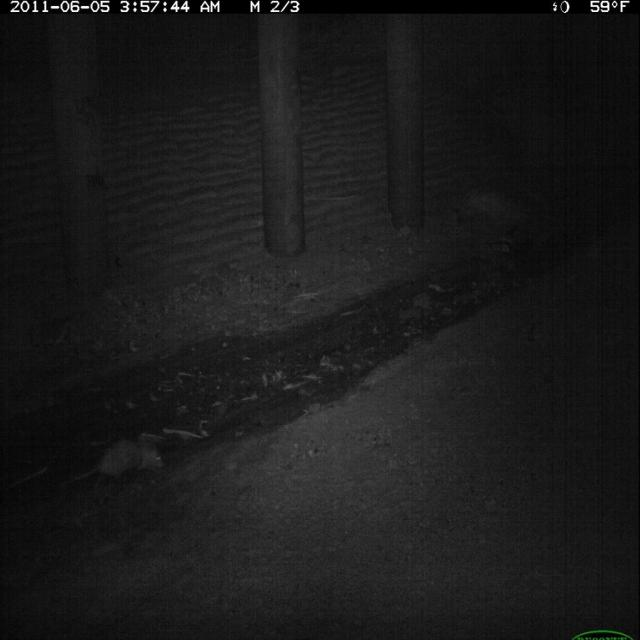opossum: (74, 435, 169, 489)
